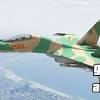maybay_muctieu: (1, 22, 100, 74)
